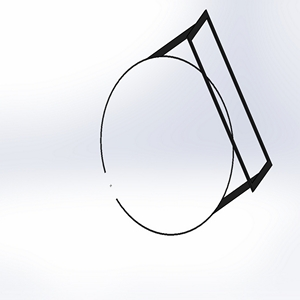circle: (96, 8, 273, 237)
